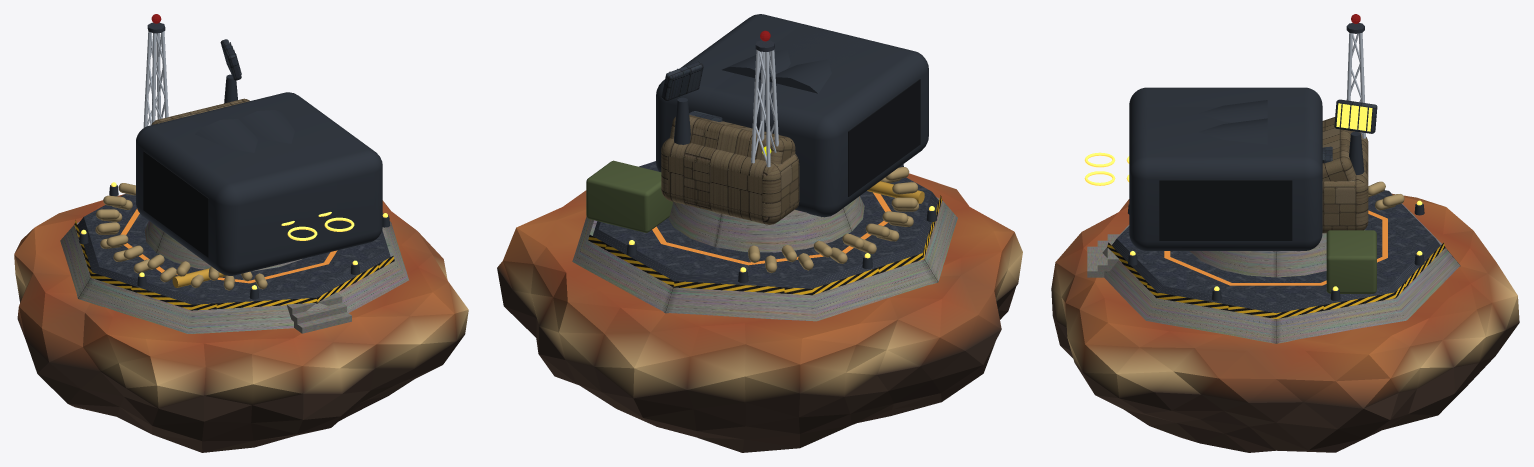
Rendered from howitzer-L50.glb.
3 renders of one model, left to right at view 1: azimuth 30°, elevation 25°; view 2: azimuth 150°, elevation 25°; view 3: azimuth 270°, elevation 25°, orthographic. The views are drawn at different scales.
Visible parts, largest first — view 1: object 1, anim:rc (×2), object 4, object 2, anim:yaw, object 3, object 49, object 5, object 22, object 23, anim:rot; view 2: object 1, anim:rc (×2), anim:yaw, object 4, object 2, object 49, object 45, object 3, anim:rot, object 5; view 3: object 1, anim:rc (×2), object 4, object 2, anim:yaw, object 45, object 49, object 3, anim:rot, object 5.
Part boxes in pixels (<box>): object 1: <box>14,194,468,452</box>; anim:rc (×2): <box>136,92,382,275</box>; object 4: <box>77,193,390,304</box>; object 2: <box>60,213,408,333</box>; anim:yaw: <box>143,14,249,127</box>; object 3: <box>74,220,394,310</box>; object 49: <box>144,221,301,271</box>; object 5: <box>120,208,337,283</box>; object 22: <box>294,312,351,333</box>; object 23: <box>289,302,346,323</box>; anim:rot: <box>220,39,241,80</box>; object 1: <box>497,173,1022,452</box>; anim:rc (×2): <box>656,14,928,217</box>; anim:yaw: <box>661,30,799,224</box>; object 4: <box>593,161,938,288</box>; object 2: <box>572,197,957,321</box>; object 49: <box>668,196,864,252</box>; object 45: <box>586,160,673,232</box>; object 3: <box>588,195,942,295</box>; anim:rot: <box>661,61,703,101</box>; object 5: <box>652,192,891,265</box>; object 1: <box>1051,193,1519,452</box>; anim:rc (×2): <box>1084,87,1322,250</box>; object 4: <box>1112,190,1440,313</box>; object 2: <box>1102,203,1460,343</box>; anim:yaw: <box>1322,14,1368,233</box>; object 45: <box>1326,230,1376,293</box>; object 49: <box>1189,229,1364,277</box>; object 3: <box>1107,242,1445,318</box>; anim:rot: <box>1334,99,1377,133</box>; object 5: <box>1164,210,1387,285</box>.
Bounding box in the file's own units: 5.61 × 4.87 × 5.58.
16 materials, 5 textured.
